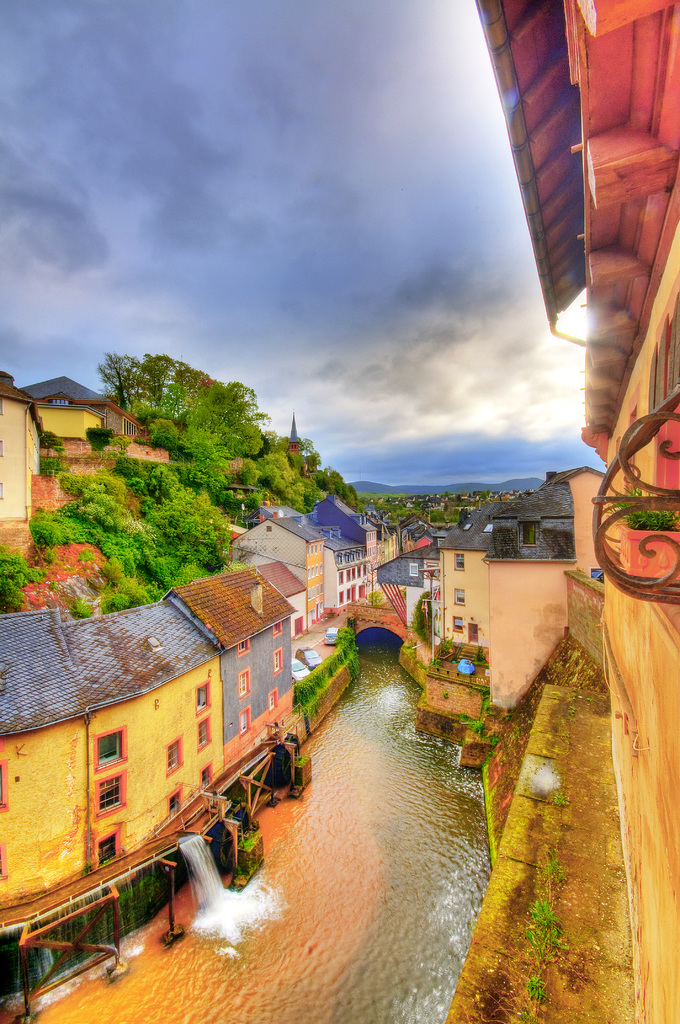Tree: (78, 333, 320, 554)
